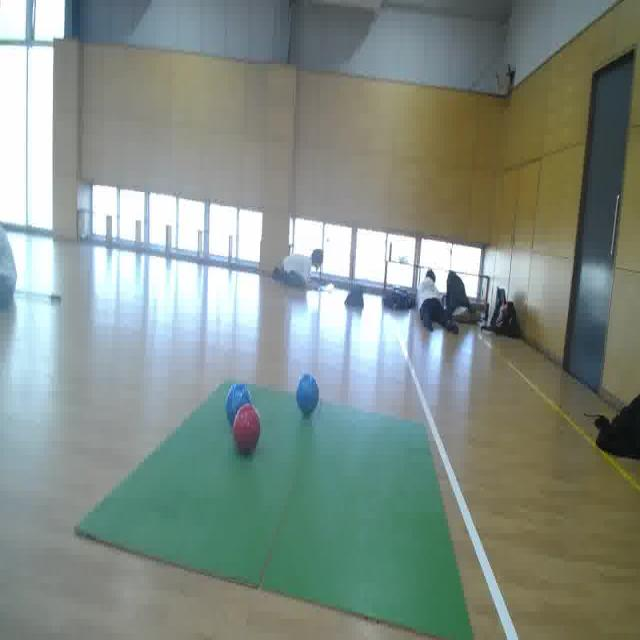blue_ball: (294, 369, 323, 420), (225, 383, 252, 427)
red_ball: (231, 402, 261, 459)
